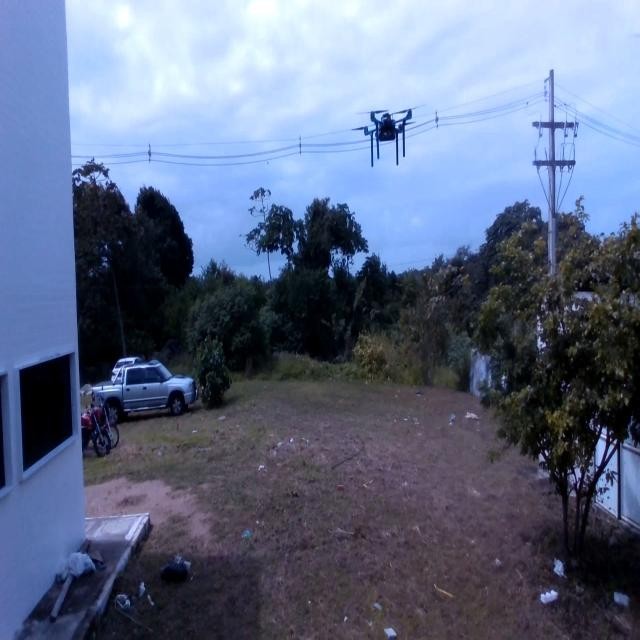-uav-: (345, 94, 431, 174)
